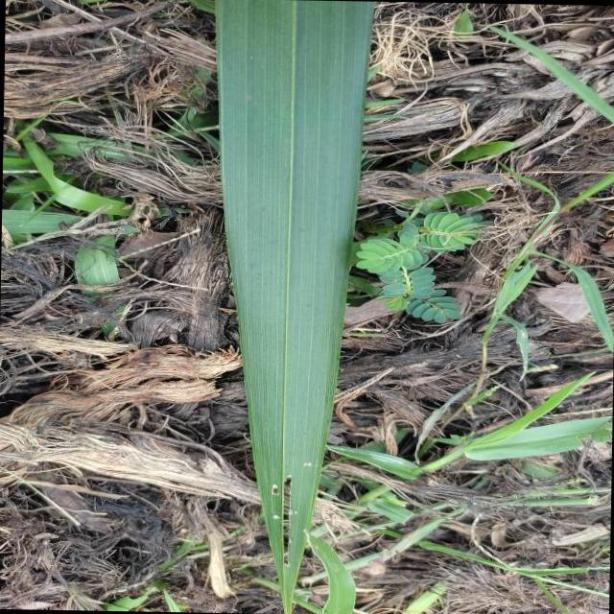Boron: (219, 0, 374, 614)
